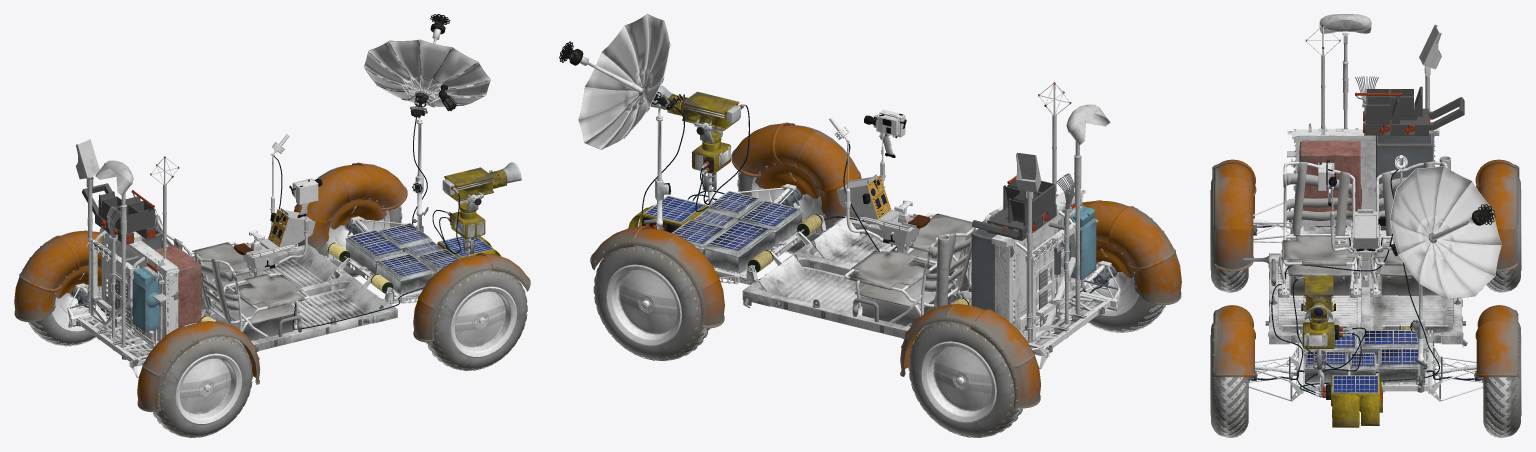
Rendered from mondfahrzeug_lunar_rover.glb.
3 views of the same model, side by side, from view 1: azimuth 30°, elevation 25°; view 2: azimuth 150°, elevation 25°; view 3: azimuth 270°, elevation 25° (orthographic). The views are drawn at different scales.
Parts seen in each view (by area): view 1: Object_8, Object_16, Object_11, Object_6, Object_13, Object_17, Object_12, Object_14; view 2: Object_8, Object_16, Object_11, Object_6, Object_13, Object_17, Object_12, Object_14; view 3: Object_8, Object_16, Object_11, Object_17, Object_13, Object_6, Object_14, Object_12.
Part boxes in pixels (x1=…): Object_8: x1=14, y1=162, x2=530, y2=437; Object_16: x1=76, y1=139, x2=202, y2=347; Object_11: x1=274, y1=14, x2=521, y2=329; Object_6: x1=70, y1=242, x2=423, y2=367; Object_13: x1=155, y1=209, x2=309, y2=340; Object_17: x1=363, y1=39, x2=490, y2=106; Object_12: x1=234, y1=134, x2=322, y2=276; Object_14: x1=67, y1=215, x2=485, y2=377; Object_8: x1=590, y1=122, x2=1181, y2=437; Object_16: x1=971, y1=82, x2=1110, y2=342; Object_11: x1=559, y1=41, x2=896, y2=272; Object_6: x1=713, y1=214, x2=1118, y2=357; Object_13: x1=844, y1=206, x2=1003, y2=326; Object_17: x1=578, y1=14, x2=669, y2=149; Object_12: x1=829, y1=109, x2=930, y2=253; Object_14: x1=691, y1=147, x2=1120, y2=369; Object_8: x1=1210, y1=159, x2=1521, y2=437; Object_16: x1=1287, y1=14, x2=1464, y2=230; Object_11: x1=1271, y1=169, x2=1495, y2=427; Object_17: x1=1389, y1=166, x2=1501, y2=298; Object_13: x1=1271, y1=156, x2=1450, y2=297; Object_6: x1=1243, y1=226, x2=1467, y2=393; Object_14: x1=1248, y1=128, x2=1483, y2=401; Object_12: x1=1318, y1=155, x2=1407, y2=287.
Size of the model in its own units: 3.1 by 1.77 by 1.78.
9 materials, 7 textured.
